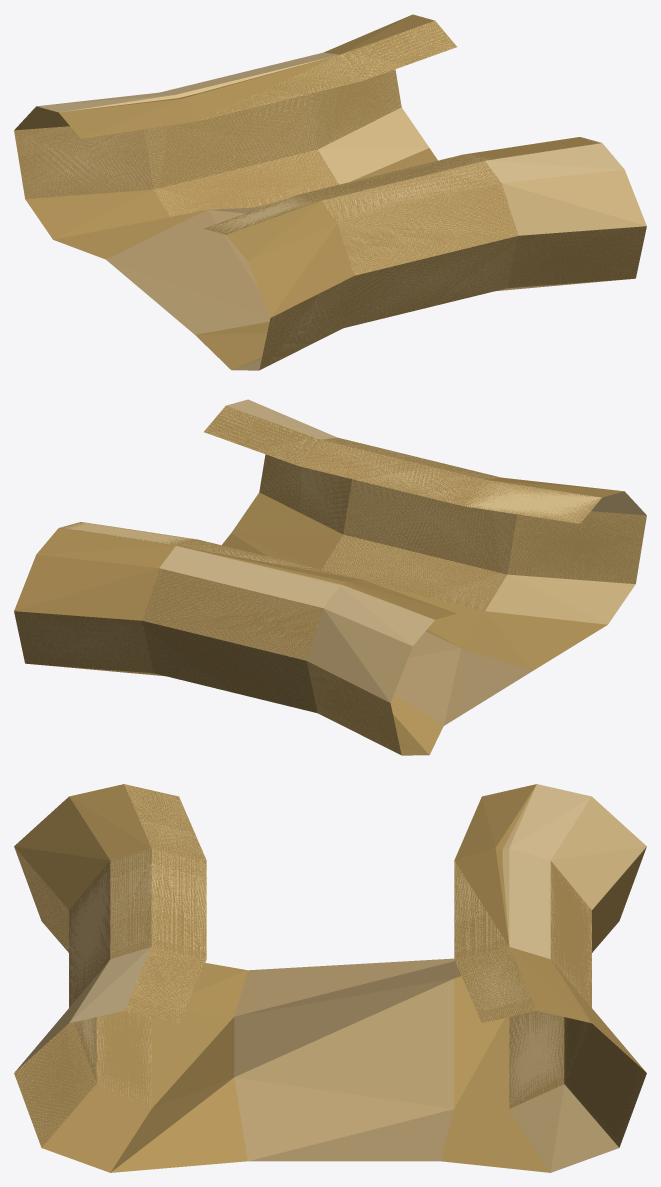
Rendered from inv_clue_scroll_99.obj.
The picture shows the model from 3 angles, top to bottom: view 1: azimuth 30°, elevation 25°; view 2: azimuth 150°, elevation 25°; view 3: azimuth 270°, elevation 25°; orthographic projection. The views are drawn at different scales.
Size of the model in its own units: 0.3047 by 0.1094 by 0.3594.
